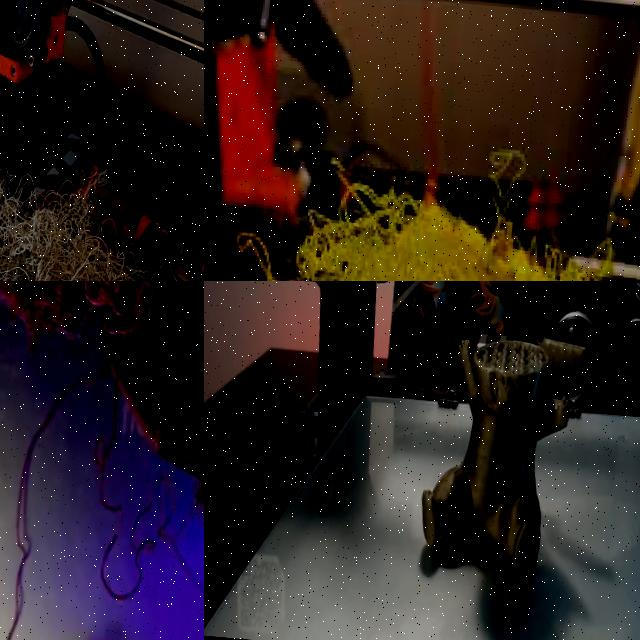spaghetti: (0, 281, 204, 632), (254, 168, 606, 281), (0, 100, 204, 281)
